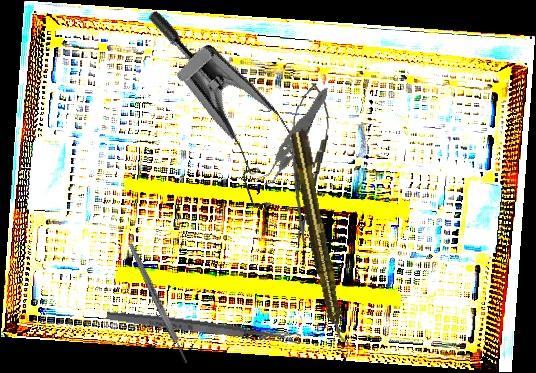Handpiece: (288, 128, 350, 347)
Needle Holder: (280, 81, 334, 244)
Scalpel Handle: (127, 241, 190, 366)
Speculum: (92, 7, 345, 227)
Surgical Spoon: (105, 309, 302, 346)
Tissue Forceps: (227, 86, 355, 192)
